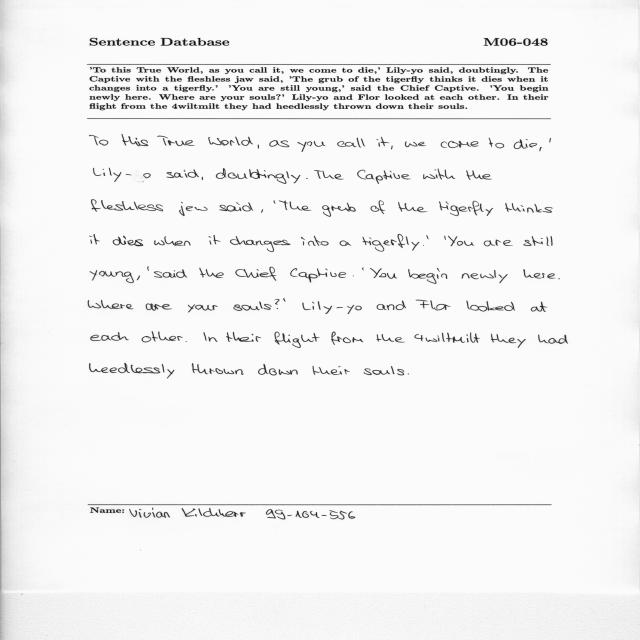word: (216, 168, 300, 184), (90, 364, 175, 379), (363, 234, 420, 252), (230, 236, 290, 252), (92, 199, 163, 212), (290, 268, 346, 283), (93, 168, 151, 182), (439, 201, 493, 216), (274, 331, 320, 348), (357, 170, 411, 184), (414, 332, 480, 343), (312, 301, 362, 314), (409, 268, 448, 284), (192, 363, 244, 375), (462, 270, 508, 283), (236, 267, 277, 281), (90, 270, 134, 283), (466, 301, 515, 312), (491, 334, 526, 348), (322, 203, 356, 217), (506, 203, 553, 213), (141, 332, 183, 343), (331, 331, 363, 345), (258, 364, 298, 375), (88, 300, 134, 309), (209, 137, 254, 146), (179, 202, 207, 216), (416, 300, 451, 311), (234, 301, 272, 311), (154, 236, 191, 246), (423, 169, 456, 180), (364, 366, 404, 375), (226, 332, 261, 342), (91, 332, 129, 341), (312, 366, 350, 375), (219, 202, 253, 212), (279, 201, 312, 211), (122, 135, 149, 147), (524, 269, 556, 279), (298, 141, 326, 152), (398, 202, 428, 212), (113, 236, 143, 246), (538, 334, 568, 344), (154, 269, 187, 278), (370, 268, 397, 279), (337, 138, 366, 148), (524, 236, 553, 246), (377, 301, 406, 311), (167, 169, 199, 178), (301, 236, 329, 246), (314, 170, 344, 179), (441, 141, 479, 148), (376, 334, 405, 343), (466, 170, 492, 180), (448, 236, 474, 246), (199, 268, 224, 278), (188, 305, 218, 313), (514, 139, 537, 149), (376, 137, 393, 150), (90, 135, 109, 146), (531, 301, 548, 312), (371, 201, 385, 214), (146, 304, 172, 311), (158, 136, 176, 146), (484, 240, 513, 246), (489, 138, 504, 149), (270, 140, 290, 147), (204, 332, 218, 342), (275, 298, 286, 309), (175, 140, 195, 146), (209, 235, 221, 245), (90, 234, 100, 245), (405, 142, 417, 148), (302, 303, 311, 310), (340, 241, 352, 246), (418, 142, 426, 146), (539, 147, 542, 151), (426, 235, 429, 239), (137, 276, 140, 280), (549, 138, 551, 143), (147, 266, 149, 271), (261, 209, 263, 213), (274, 200, 276, 204), (444, 236, 446, 240), (362, 268, 364, 271), (258, 145, 259, 149), (202, 177, 203, 180), (306, 178, 308, 179), (558, 278, 560, 279), (423, 245, 424, 246), (186, 341, 187, 342), (408, 374, 409, 375), (353, 276, 354, 276)
